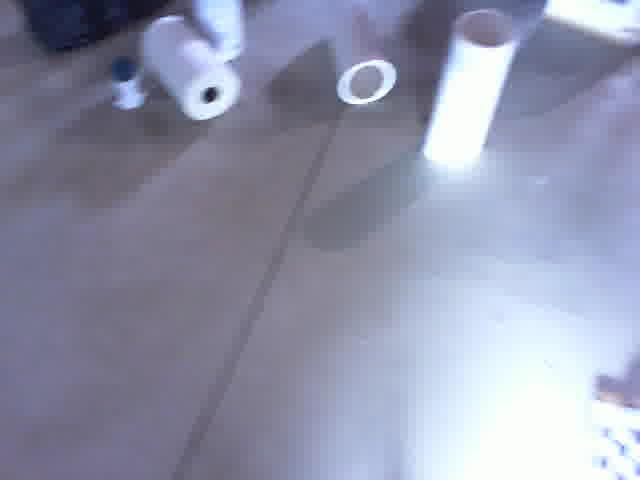coral: (423, 5, 521, 170), (315, 0, 402, 110)
